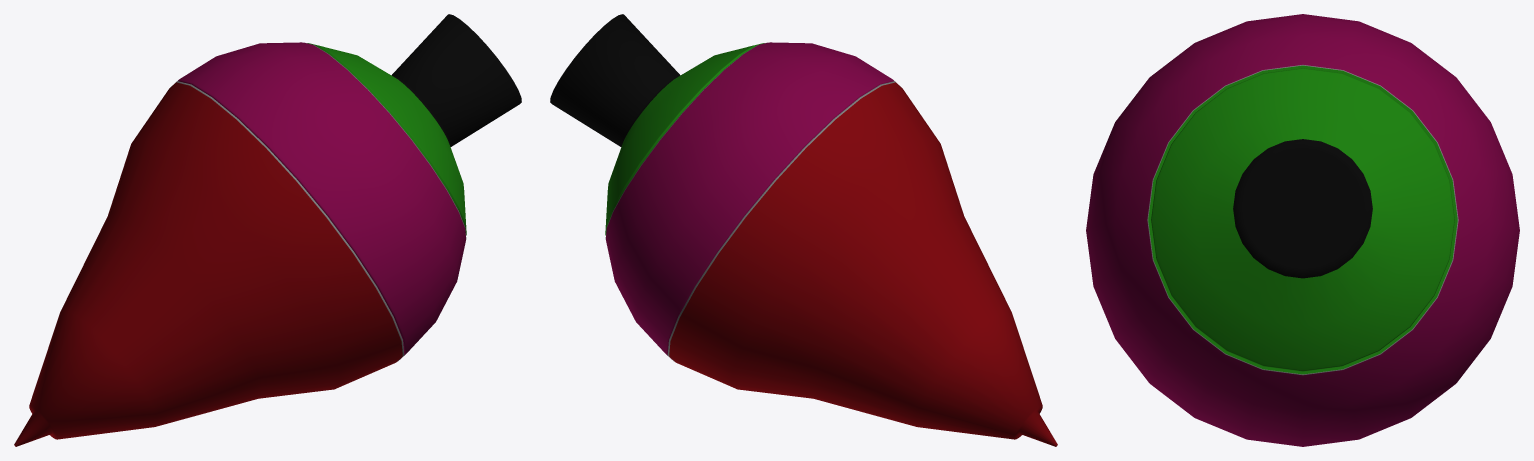
Rendered from trompo.fbx.
3 views of the same model, side by side, from view 1: azimuth 30°, elevation 25°; view 2: azimuth 150°, elevation 25°; view 3: azimuth 270°, elevation 25° (orthographic). The views are drawn at different scales.
Parts seen in each view (by area): view 1: trompo; view 2: trompo; view 3: trompo.
Boxes of the visible parts, x1,y1,x2,y2 form: trompo: (14, 14, 521, 446); trompo: (550, 14, 1057, 446); trompo: (1086, 14, 1519, 446).
Size of the model in its own units: 18.68 by 11.79 by 11.77.
